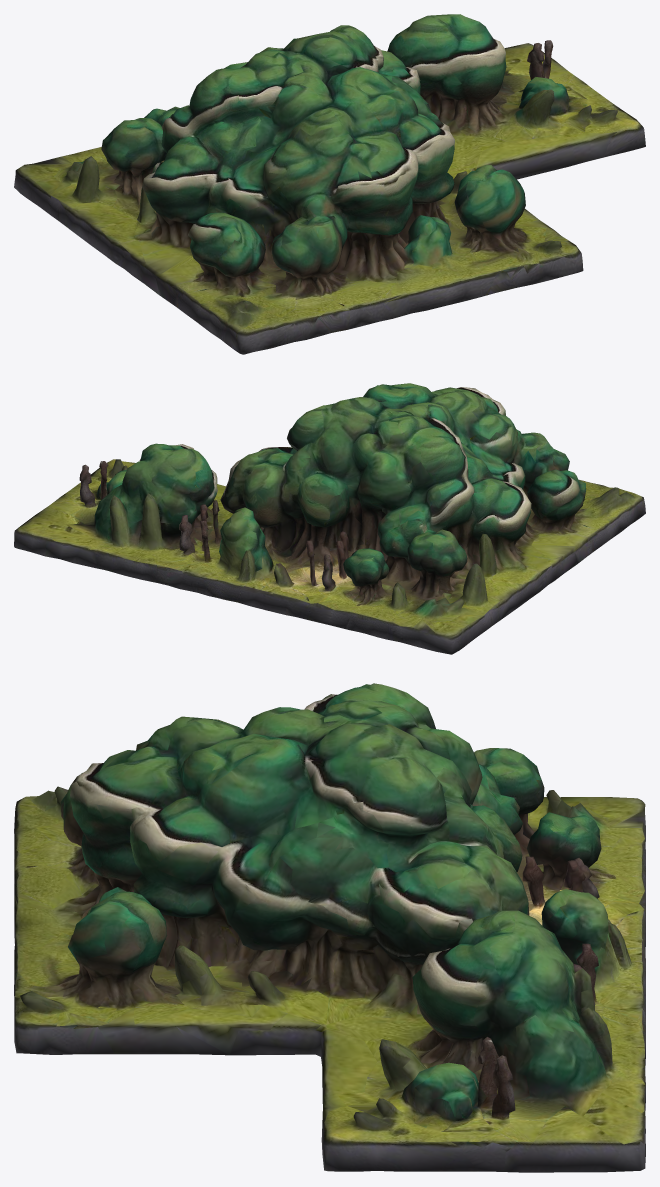
The model's file is bosco.glb.
3 renders of one model, top to bottom at view 1: azimuth 30°, elevation 25°; view 2: azimuth 150°, elevation 25°; view 3: azimuth 270°, elevation 25°, orthographic. The views are drawn at different scales.
Bounding box in the file's own units: 1.9 × 0.6121 × 1.46.
1 material, 1 textured.
